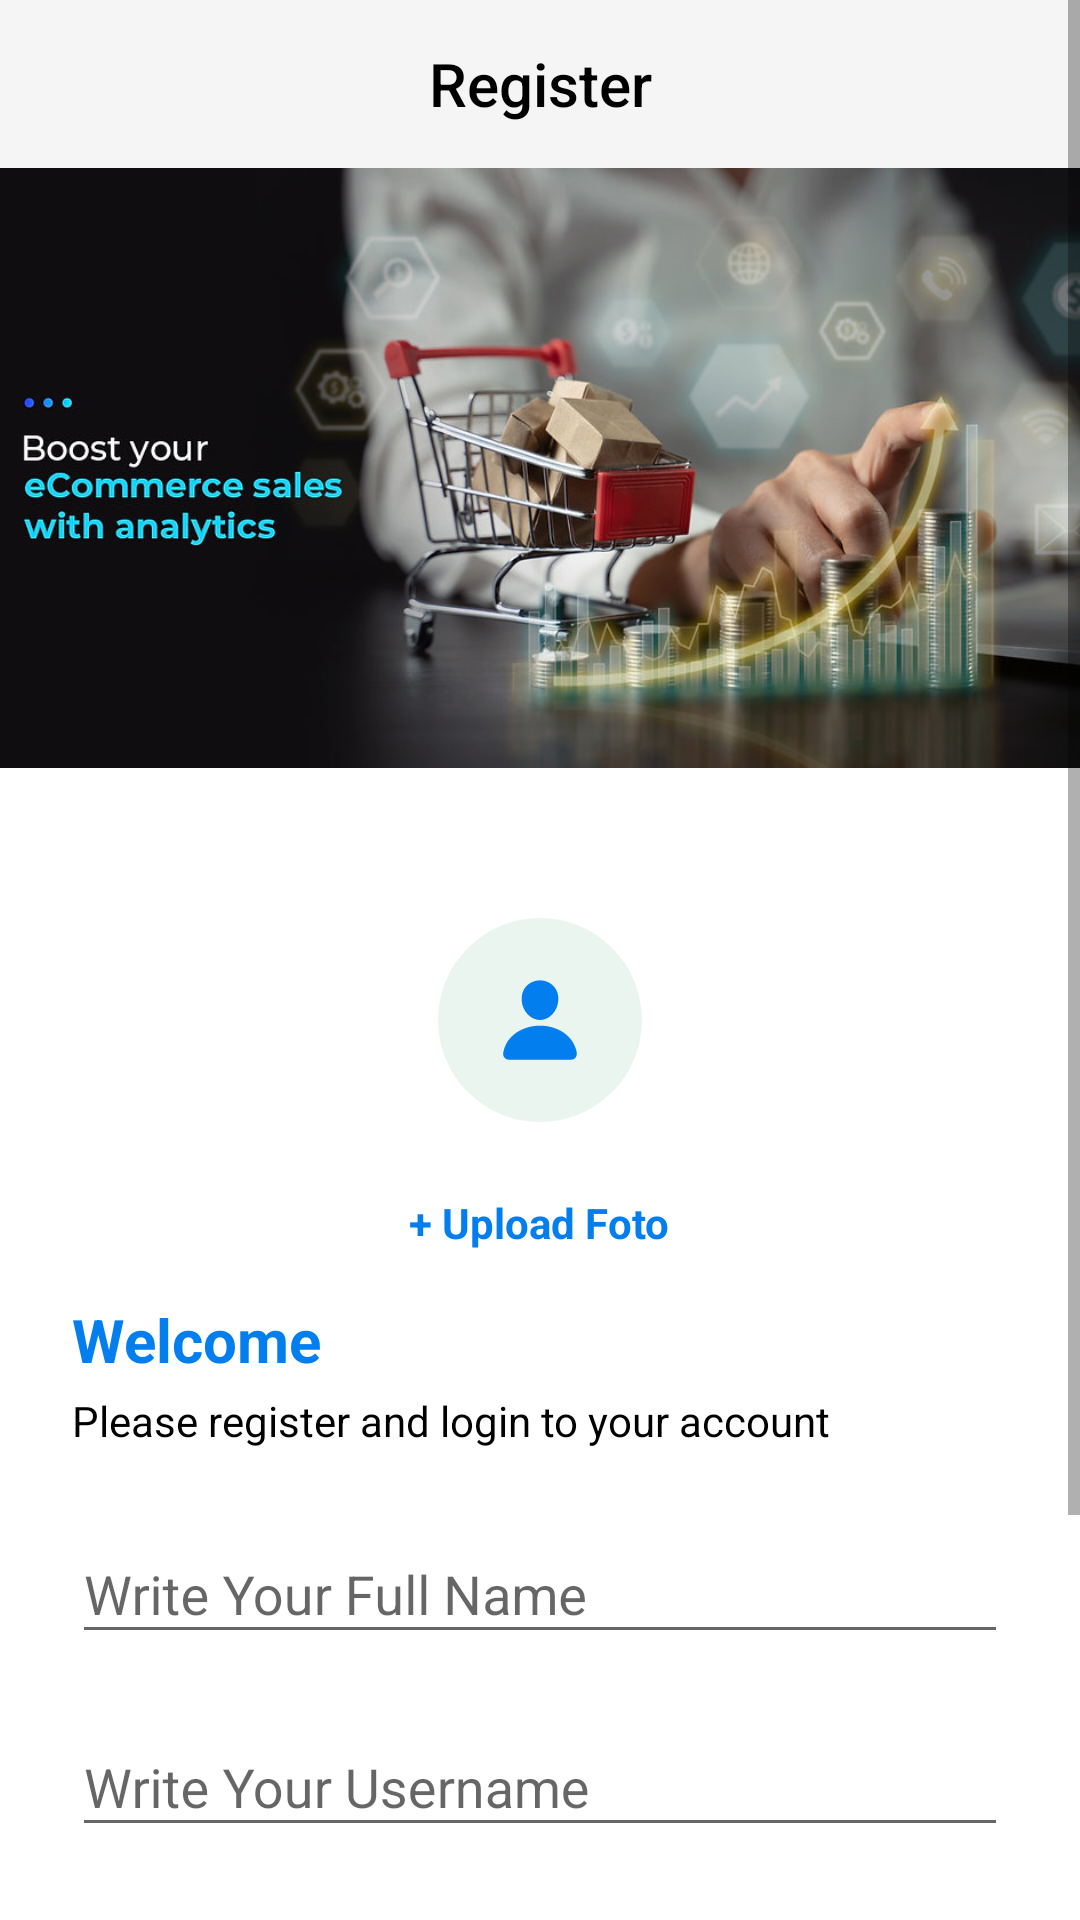

Named icons in this screenshot (1080*1920) and their centers, (x,y):
upload profile: (540,1020)
